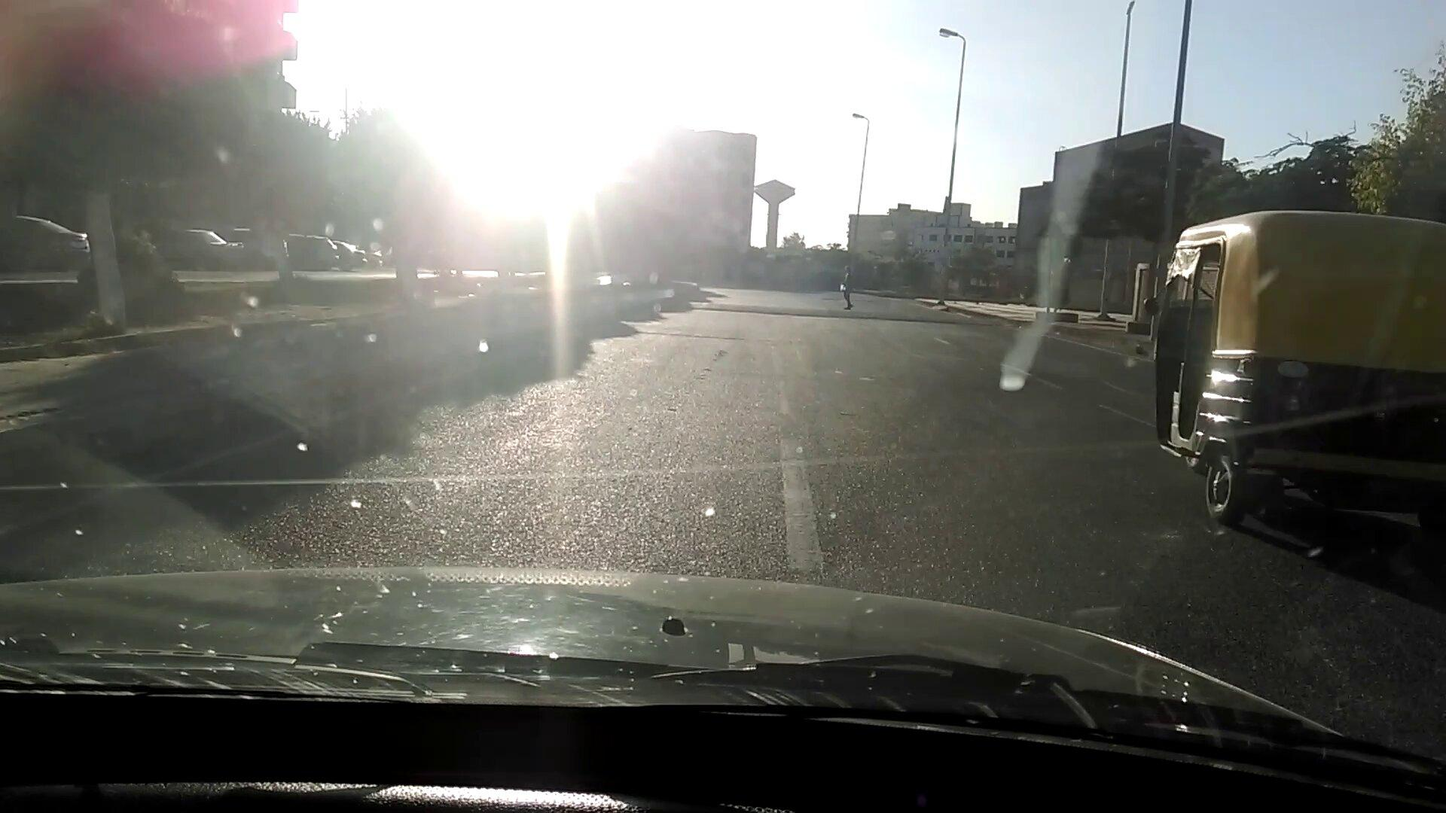Bump: (678, 299, 990, 333)
